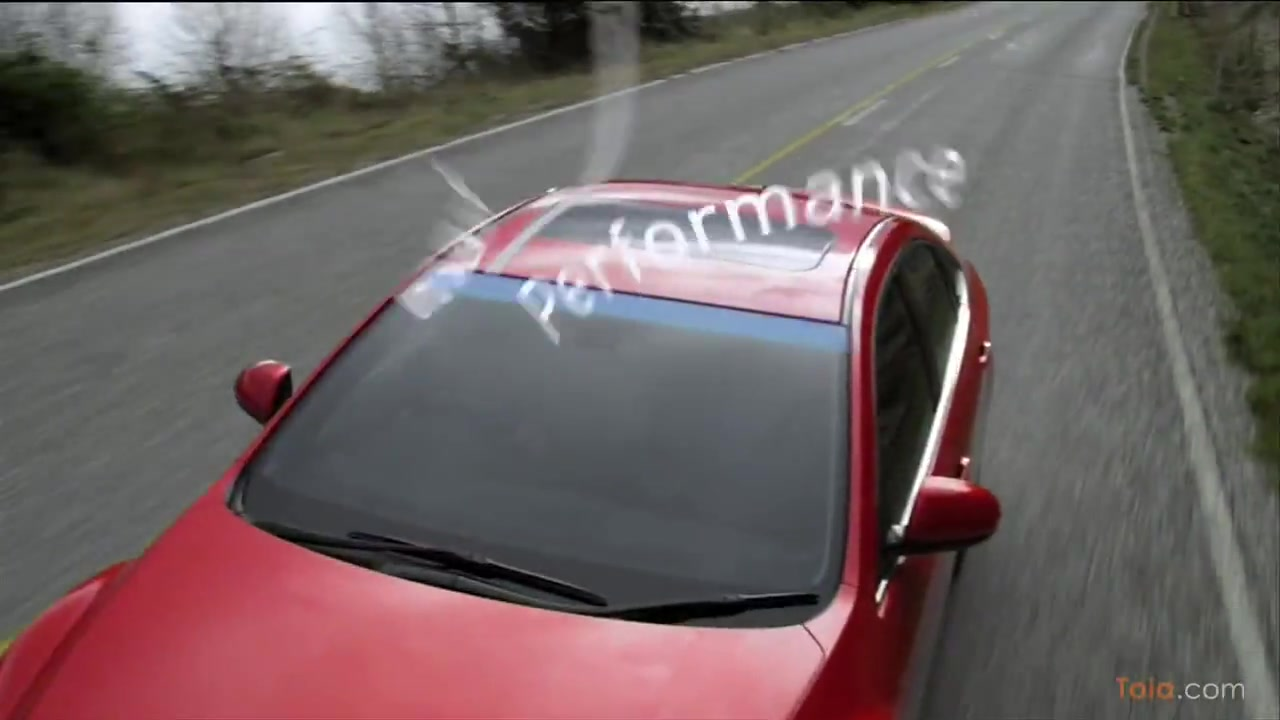car: (1, 180, 994, 720)
